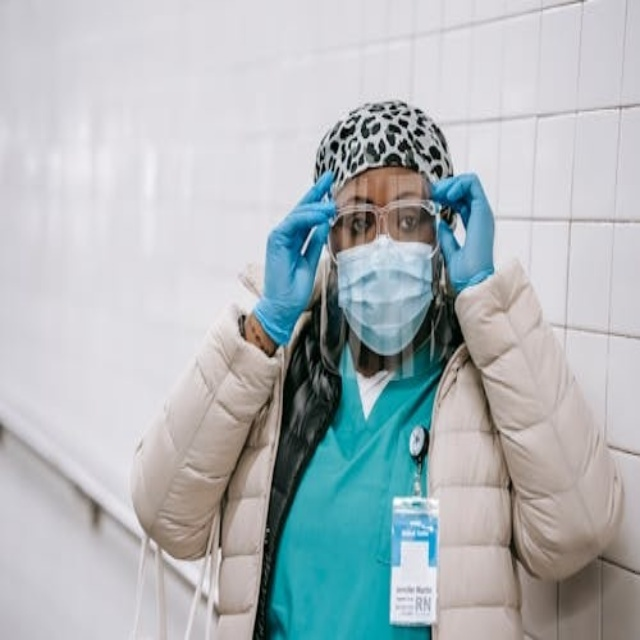Gafas: (328, 196, 444, 258)
Guantes: (251, 169, 339, 350), (430, 170, 496, 301)
Mascara: (334, 227, 441, 354)
